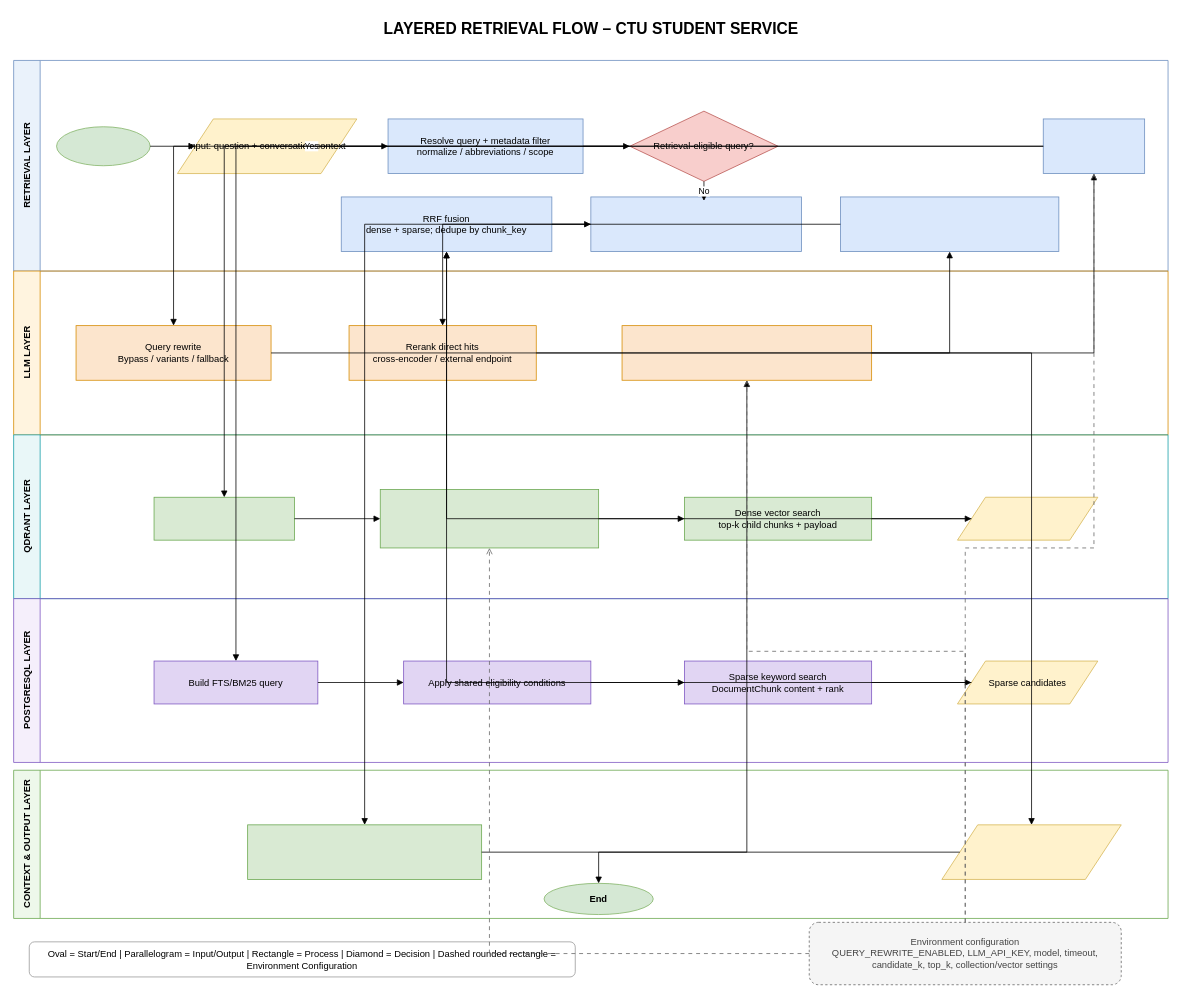
Some shapes in this 1182 by 998 pixel diagram are drawn without their labels. The centre of each missing label's shape, as x and y in pixels:
Apply Qdrant eligibility filter approved / published / latest / audience / scope: the point at 489,518
Build bounded context dedupe + source order + 12,000-char budget: the point at 364,851
Dense candidates: the point at 1027,518
Embed query: the point at 223,518
Hydration from PostgreSQL canonical content → RetrievalResult: the point at 695,224
Orchestrate candidate search + fusion: the point at 1093,146
Output: RagAnswer + ConversationContext: the point at 1031,851
RAG / LLM answer generation Prompt + grounded model response + citations: the point at 746,352
Start: the point at 103,146
Structural expansion parent / children / siblings / split neighbors: the point at 949,224
